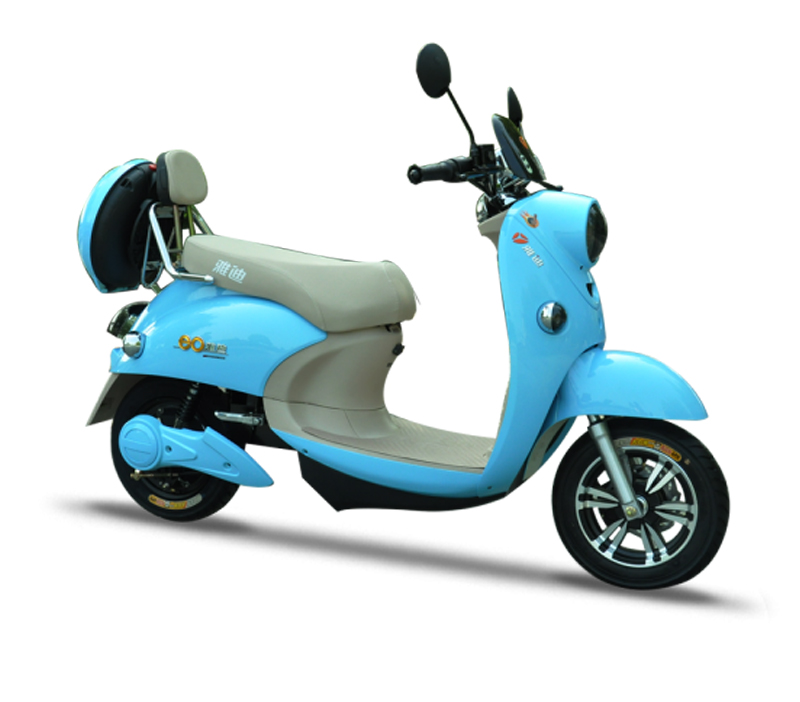MNV: (76, 115, 730, 593)
